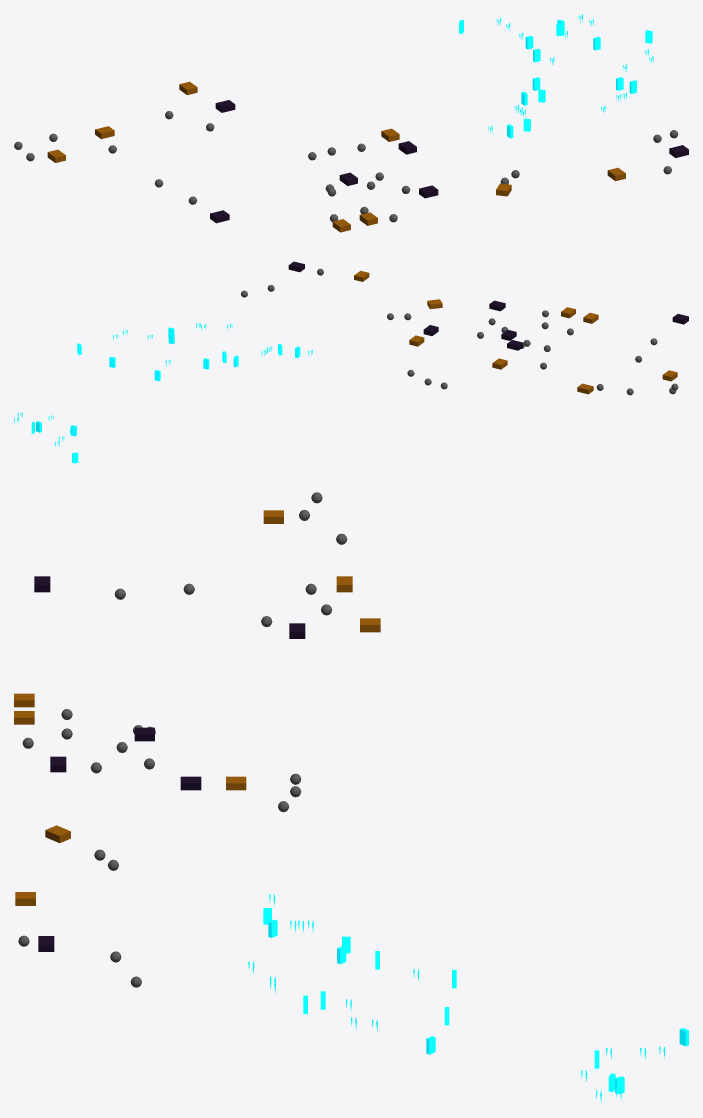
The model's file is Obstacles.fbx.
3 renders of one model, top to bottom at view 1: azimuth 30°, elevation 25°; view 2: azimuth 150°, elevation 25°; view 3: azimuth 270°, elevation 25°, orthographic. The views are drawn at different scales.
Bounding box in the file's own units: 101756 × 19088 × 65758.
